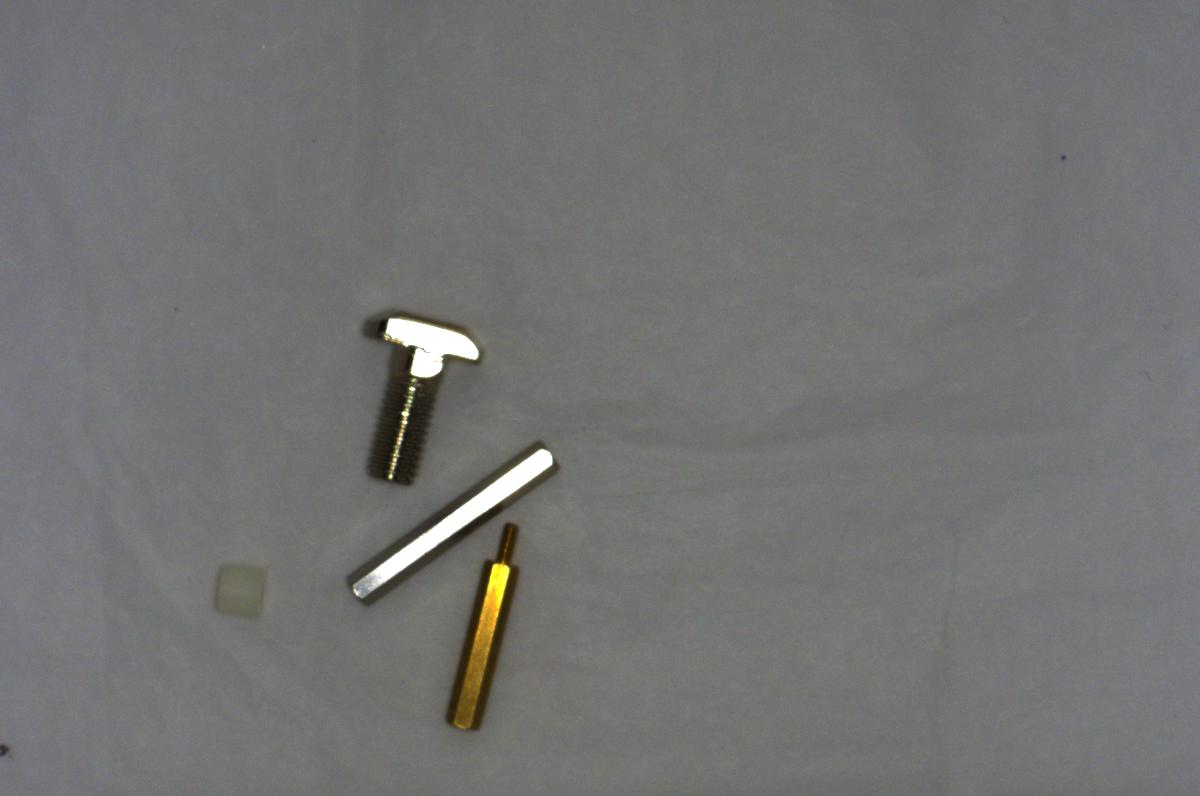Double hexagonal column: (337, 442, 567, 600)
Hexagon pillar: (441, 519, 526, 736)
Plastic cushion pillar: (205, 559, 274, 619)
T-shaped screw: (364, 303, 480, 490)
